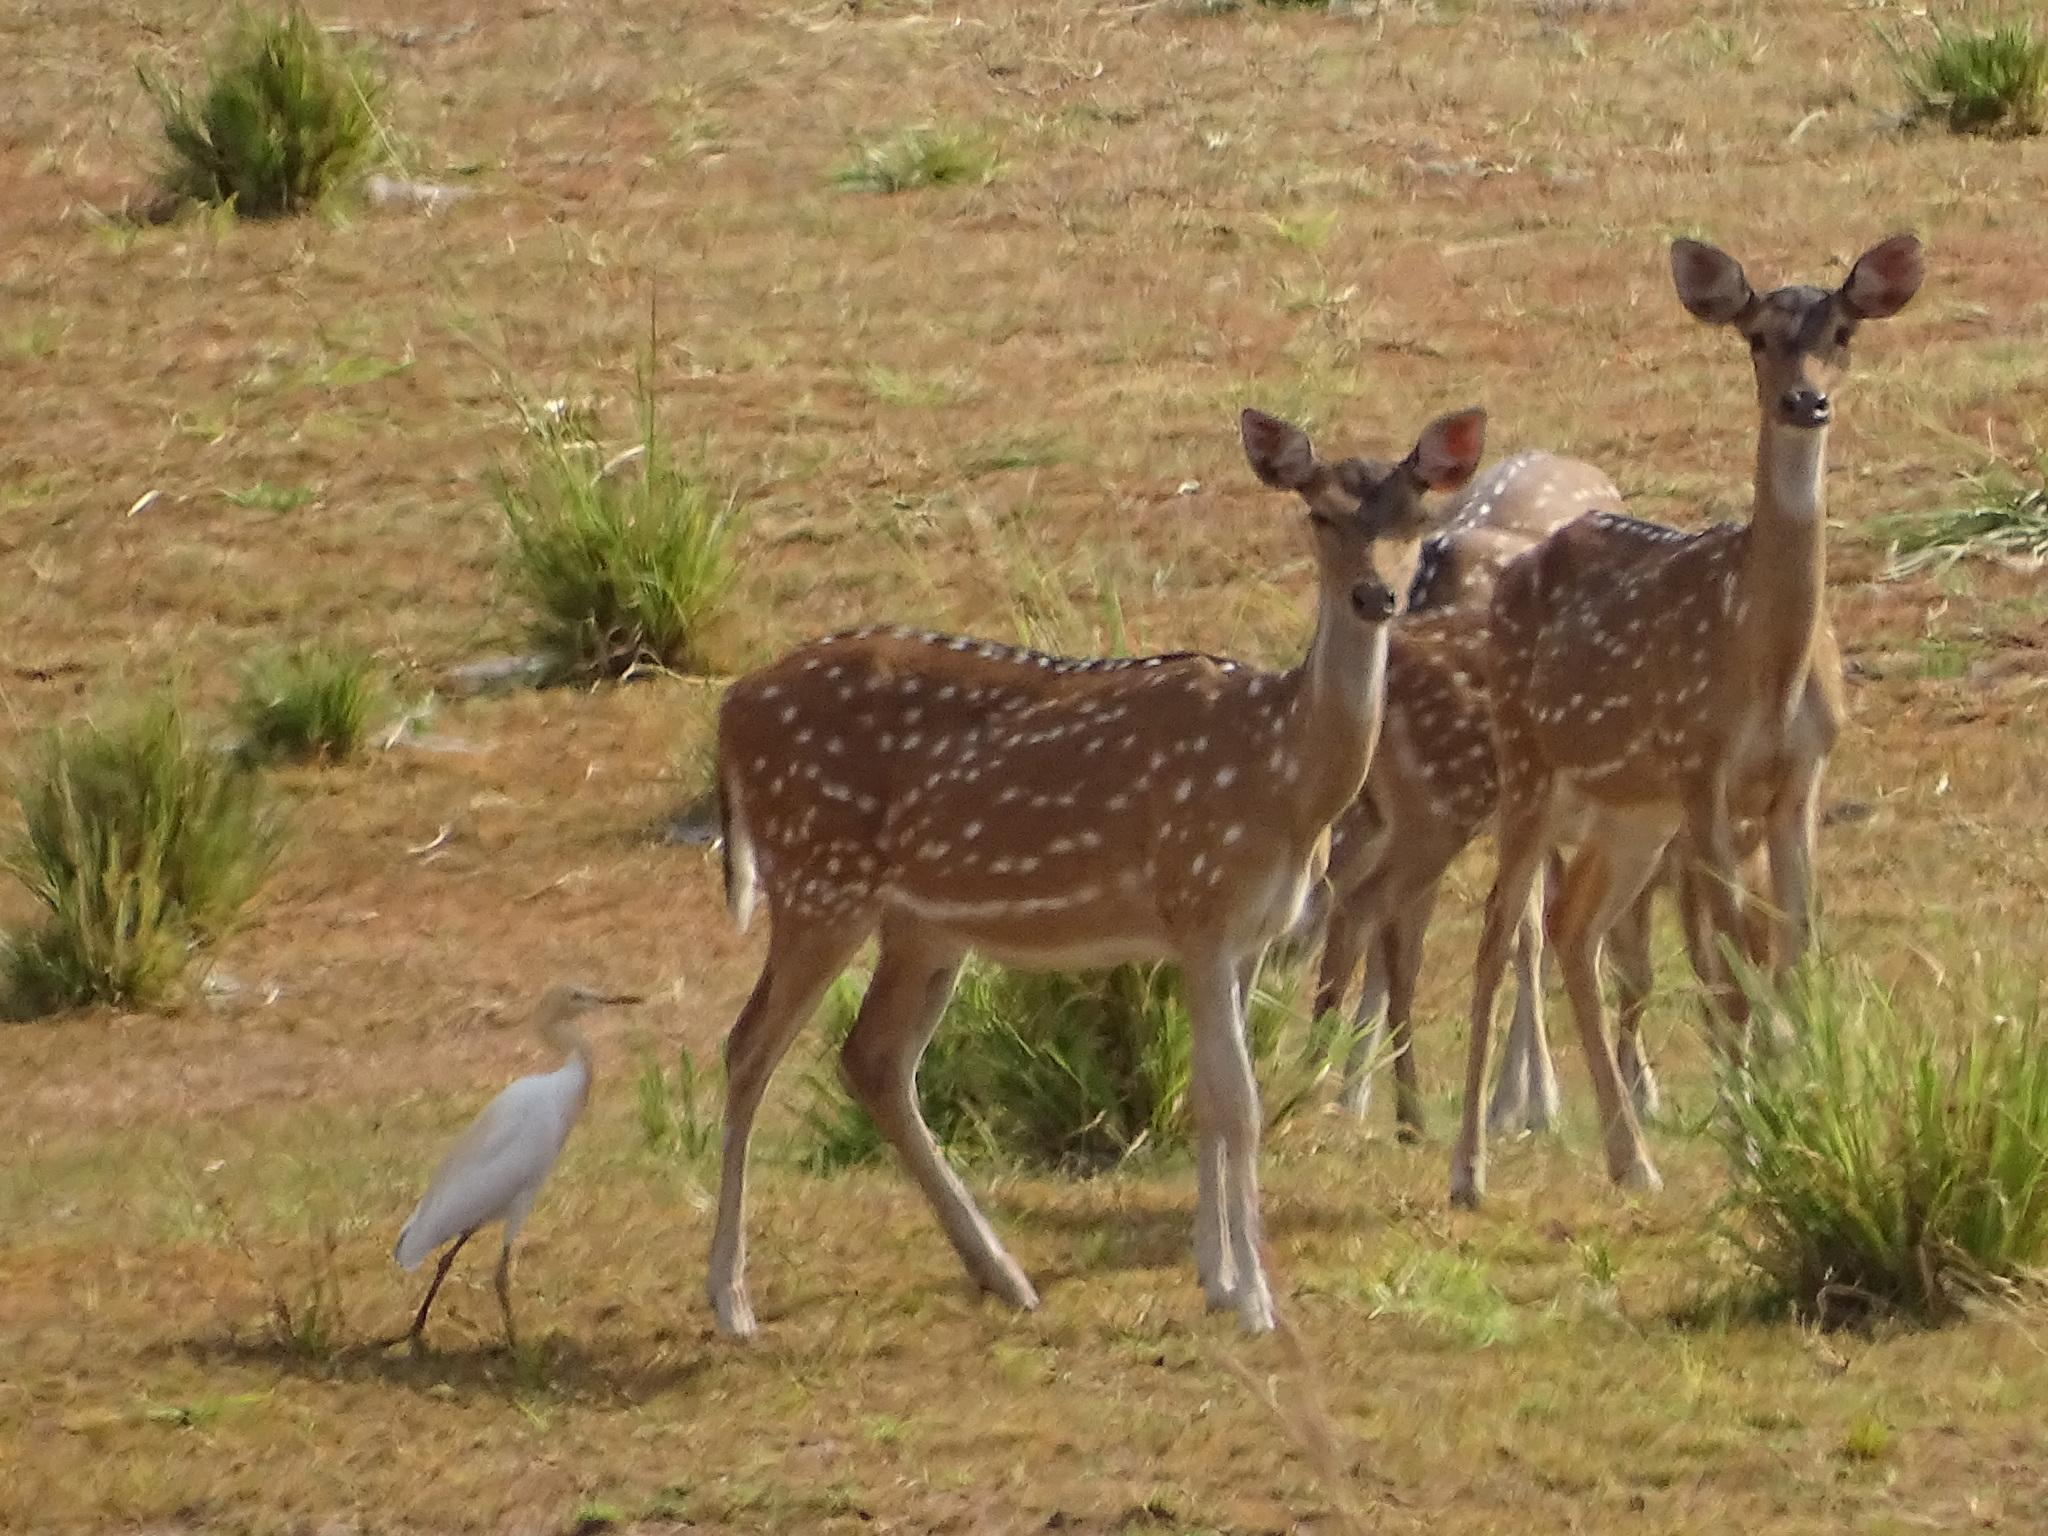Deer: (706, 408, 1485, 1334), (1472, 236, 1921, 1187)
